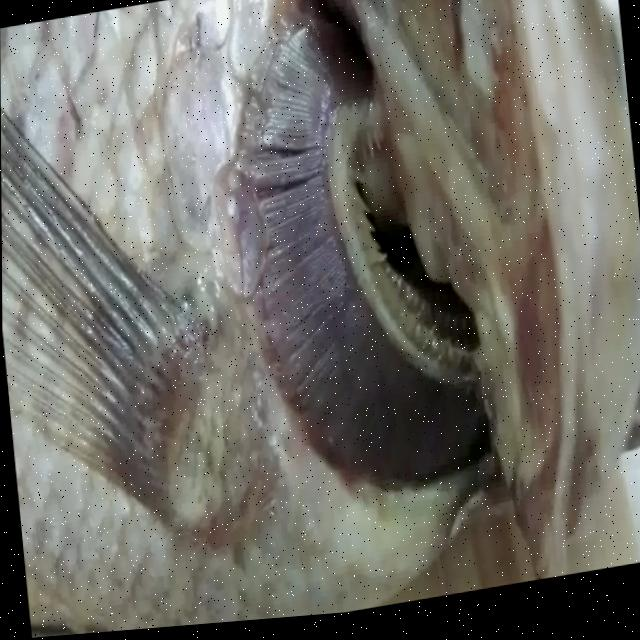Non-Fresh: (208, 0, 522, 538)
